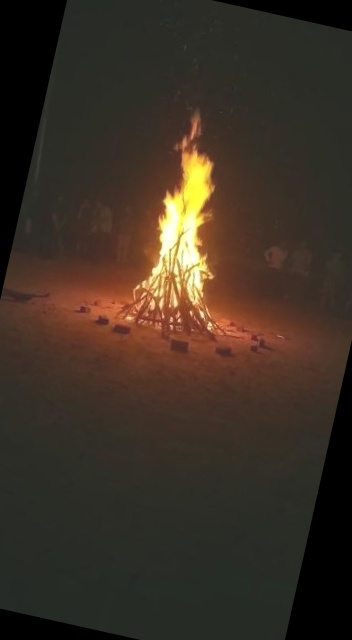fire: (83, 89, 278, 341)
